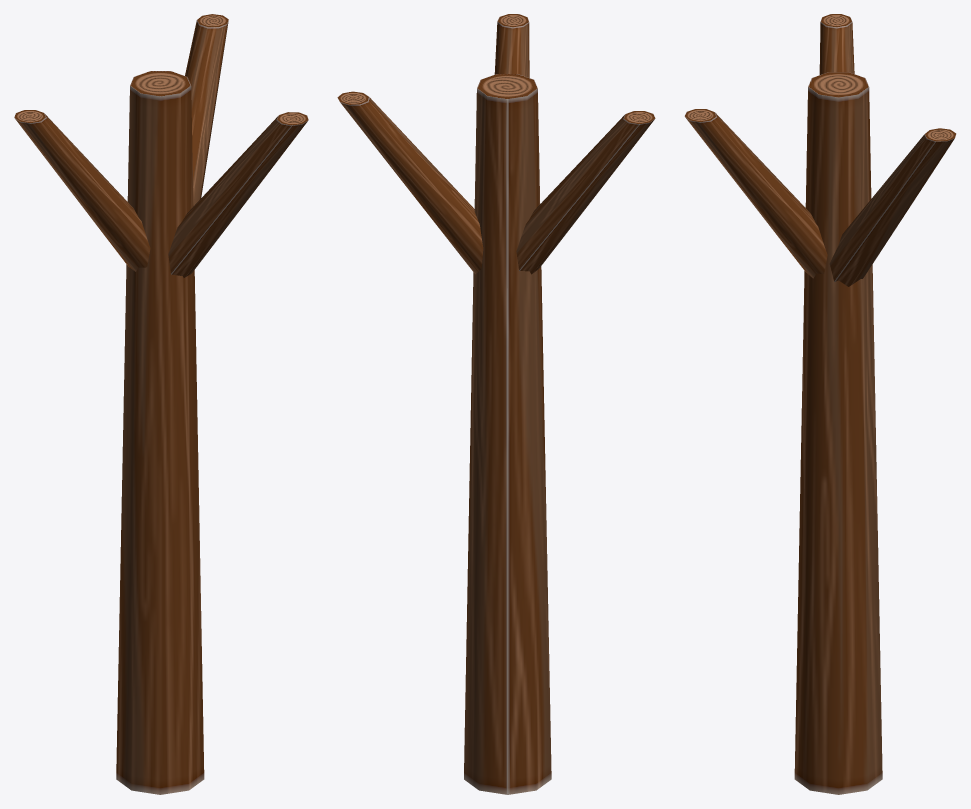
The model's file is bigtree_v2_fbx.fbx.
3 renders of one model, left to right at view 1: azimuth 30°, elevation 25°; view 2: azimuth 150°, elevation 25°; view 3: azimuth 270°, elevation 25°, orthographic.
Visible parts, largest first — view 1: pCylinder1, pCylinder4, pCylinder2, pCylinder3; view 2: pCylinder1, pCylinder3, pCylinder2, pCylinder4; view 3: pCylinder1, pCylinder4, pCylinder3, pCylinder2.
Boxes of the visible parts, box(x1,y1,x2,y2) form: pCylinder1: box(116, 71, 204, 794); pCylinder4: box(168, 112, 308, 277); pCylinder2: box(14, 110, 150, 271); pCylinder3: box(185, 14, 228, 205); pCylinder1: box(464, 74, 551, 794); pCylinder3: box(337, 91, 483, 274); pCylinder2: box(516, 111, 655, 274); pCylinder4: box(494, 14, 529, 77); pCylinder1: box(794, 72, 882, 794); pCylinder4: box(684, 109, 827, 278); pCylinder3: box(829, 128, 956, 286); pCylinder2: box(819, 14, 854, 74).
Size of the model in its own units: 4.86 by 12.3 by 4.38.
